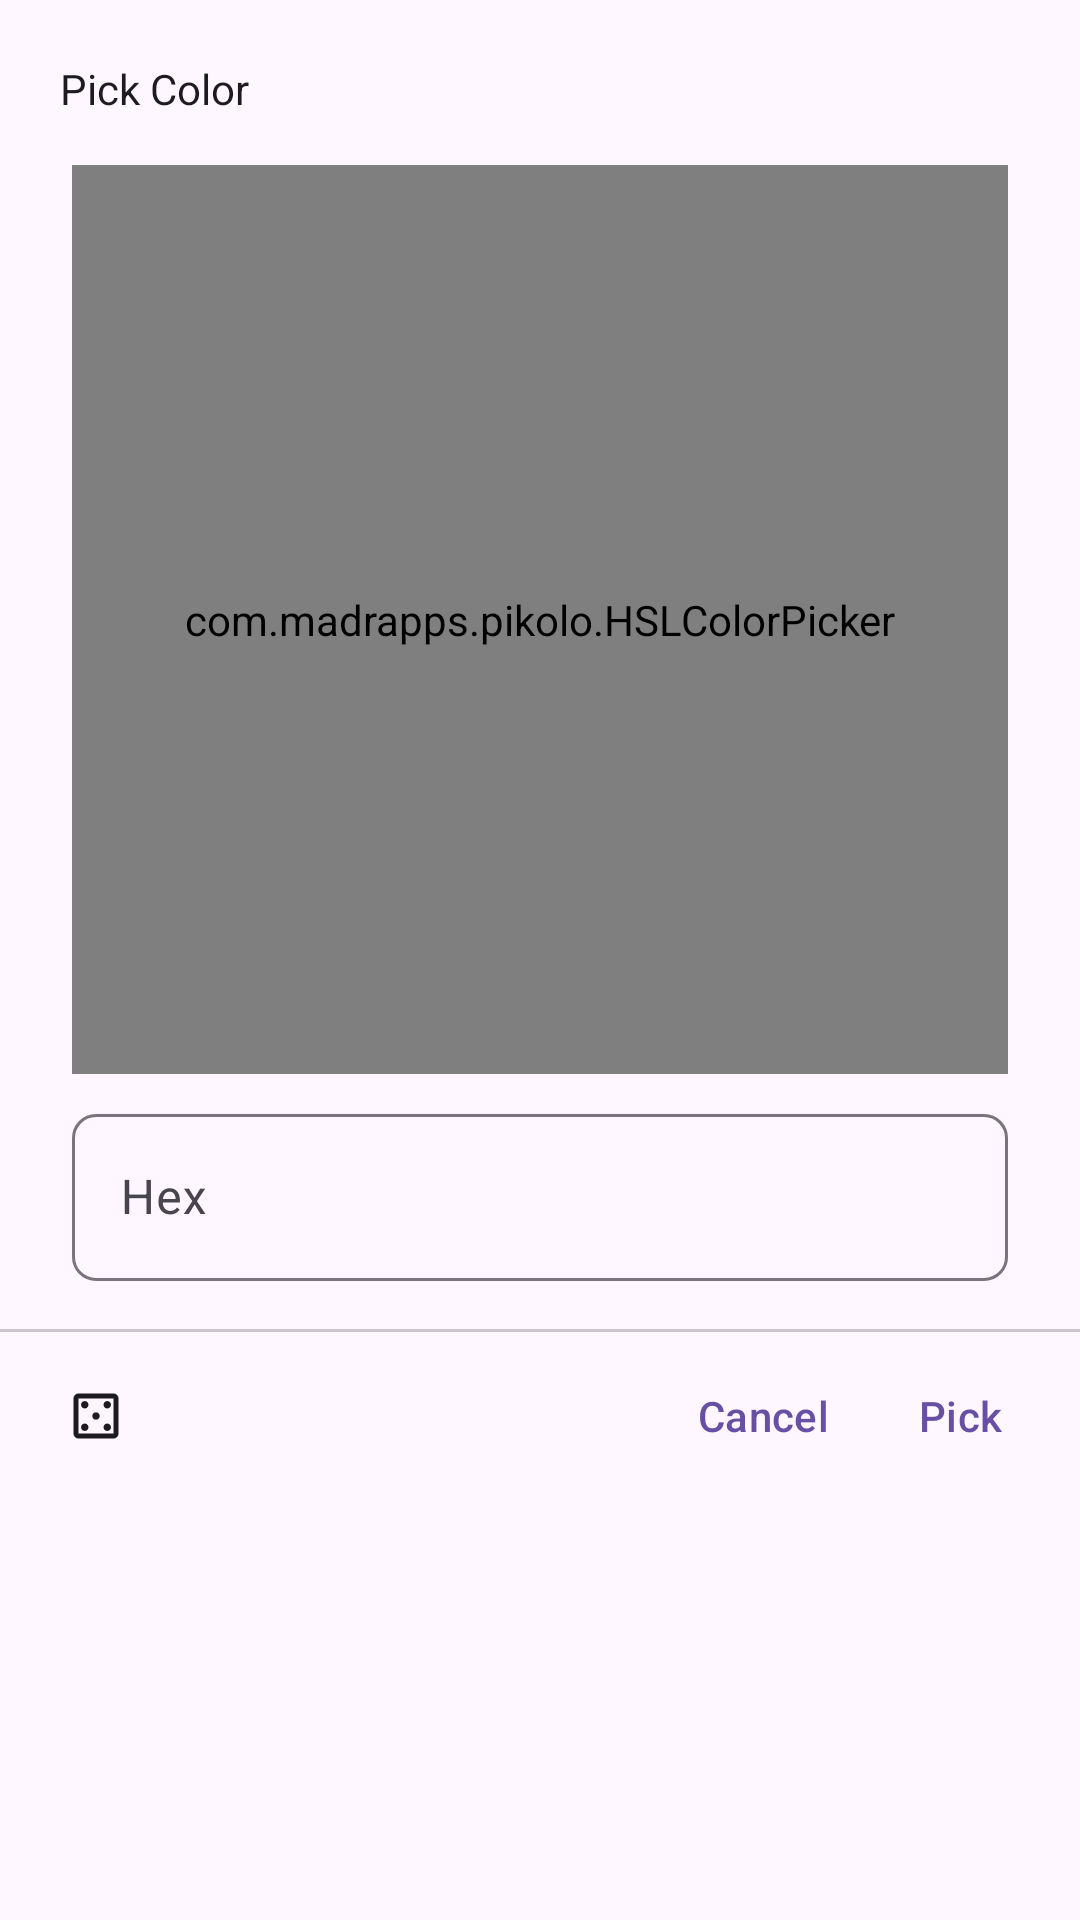

Screen size 1080 × 1920. Icon name, then its box in pixels as [x1=x1, y1=y1, x2=x2, y2=y2]:
dice: [x1=73, y1=1393, x2=119, y2=1439]
